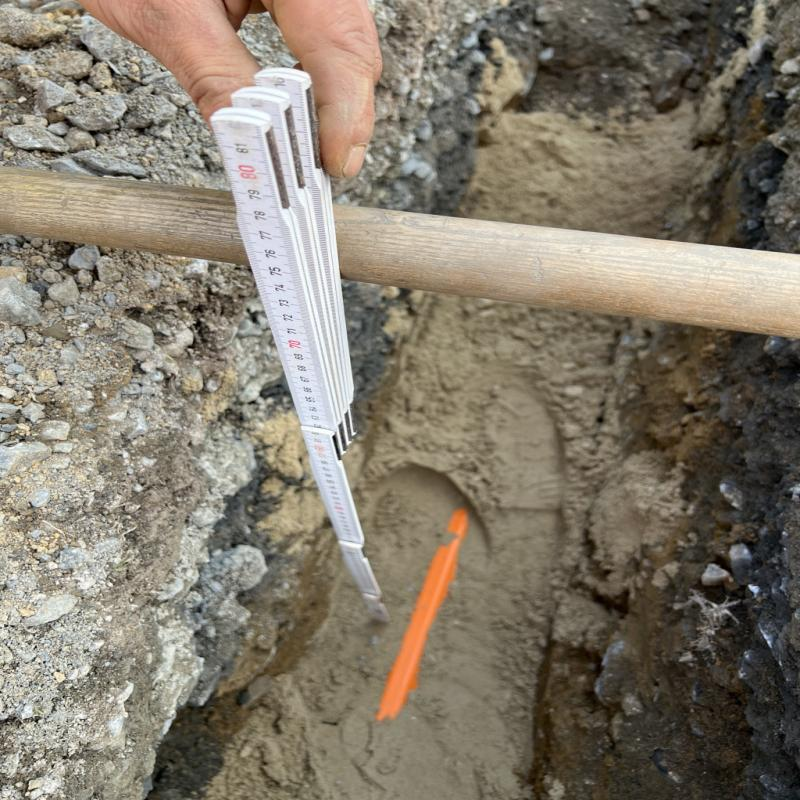Orang-Speednetrohrchen: (375, 511, 473, 717)
